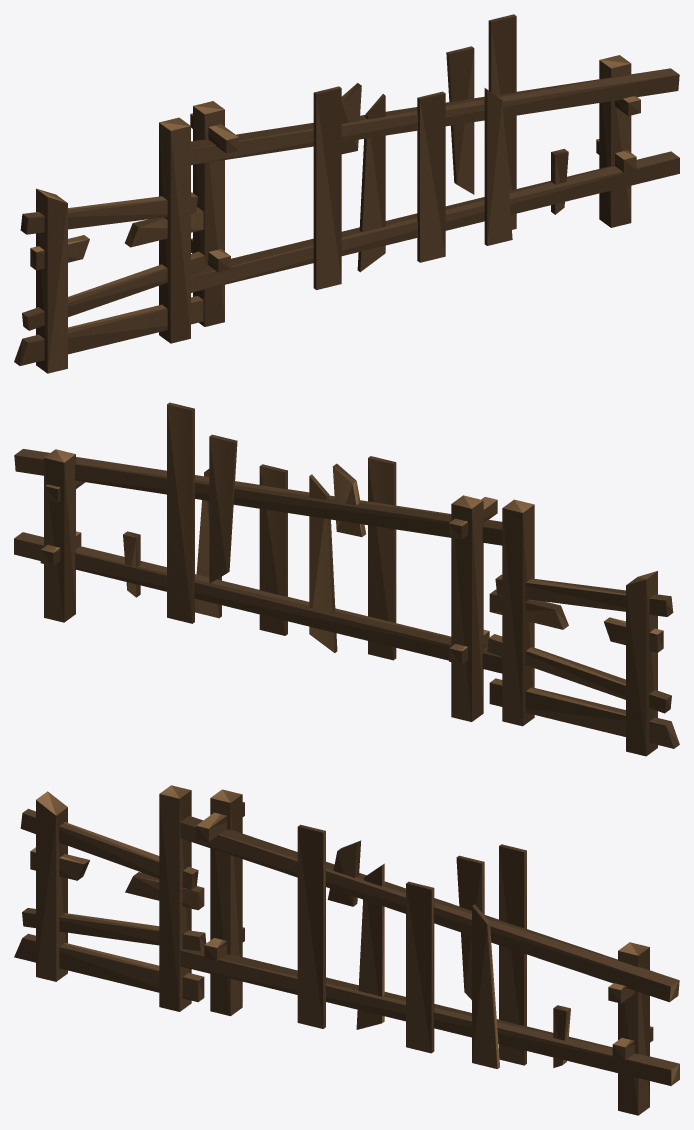
The model's file is Wood_12B_Lod1.fbx.
3 renders of one model, top to bottom at view 1: azimuth 30°, elevation 25°; view 2: azimuth 150°, elevation 25°; view 3: azimuth 330°, elevation 25°, orthographic.
Parts seen in each view (by area): view 1: polySurface1105; view 2: polySurface1105; view 3: polySurface1105.
Part boxes in pixels (box(x1,y1,x2,y2)): polySurface1105: box(14, 14, 679, 373); polySurface1105: box(14, 402, 679, 756); polySurface1105: box(14, 785, 679, 1115).
Bounding box in the file's own units: 1295 × 441 × 125.
Materials: 1 (1 with a texture image).
